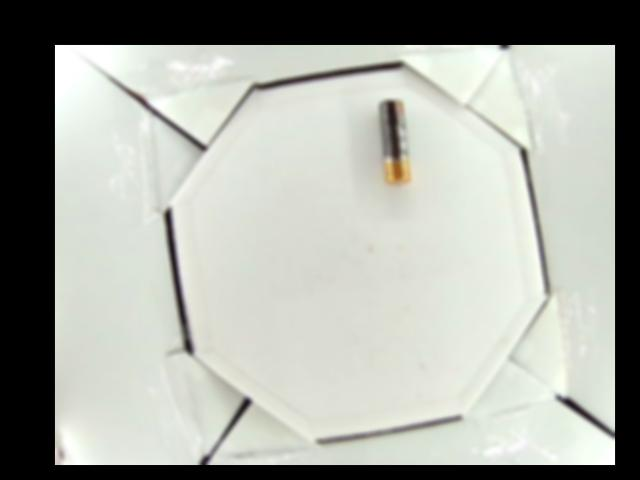Battery: (378, 98, 411, 185)
